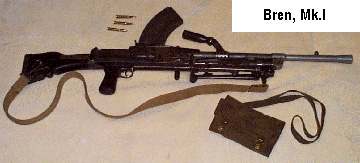rifle: (1, 27, 353, 118)
